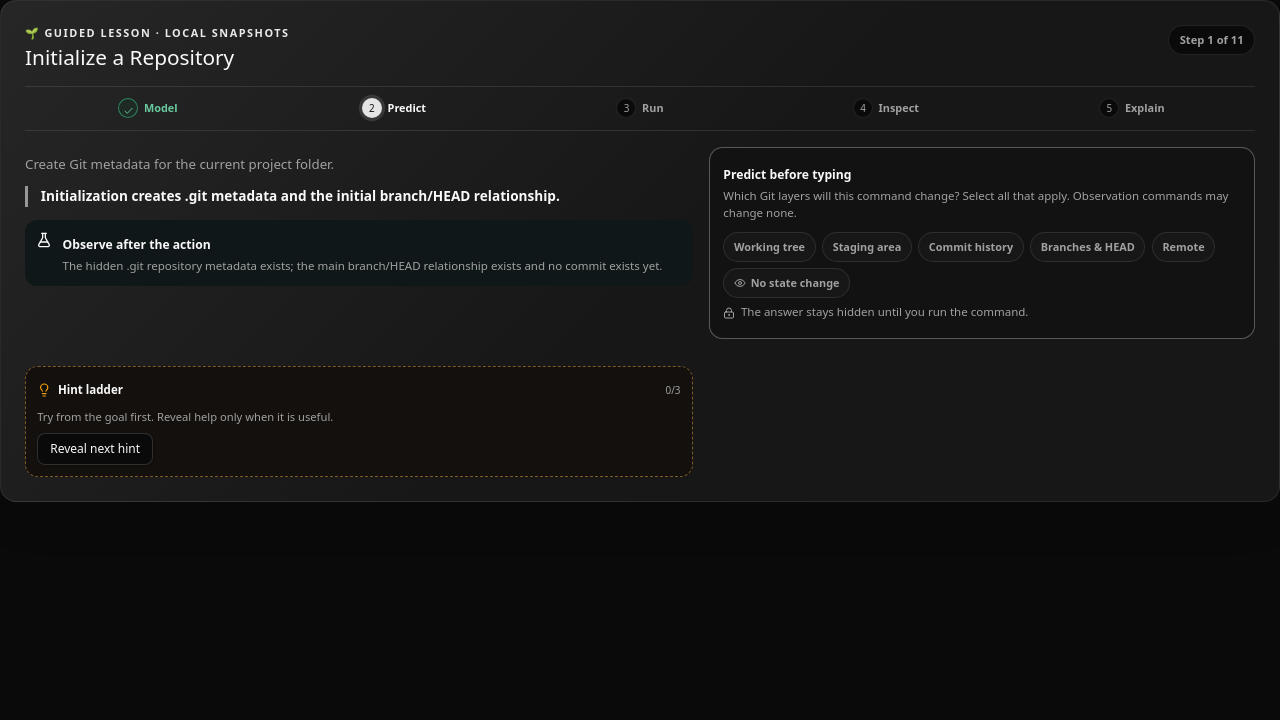
Test: Learning workspace › reveals hints progressively and records hint dependence as learning evidence
Expected: the text "Hint ladder" is shown, [58,381,123,399]
Expected: the text "0/3" is shown, [666,382,680,397]
Click the button "Reveal next hint" at (95, 448), box [37,432,153,464]
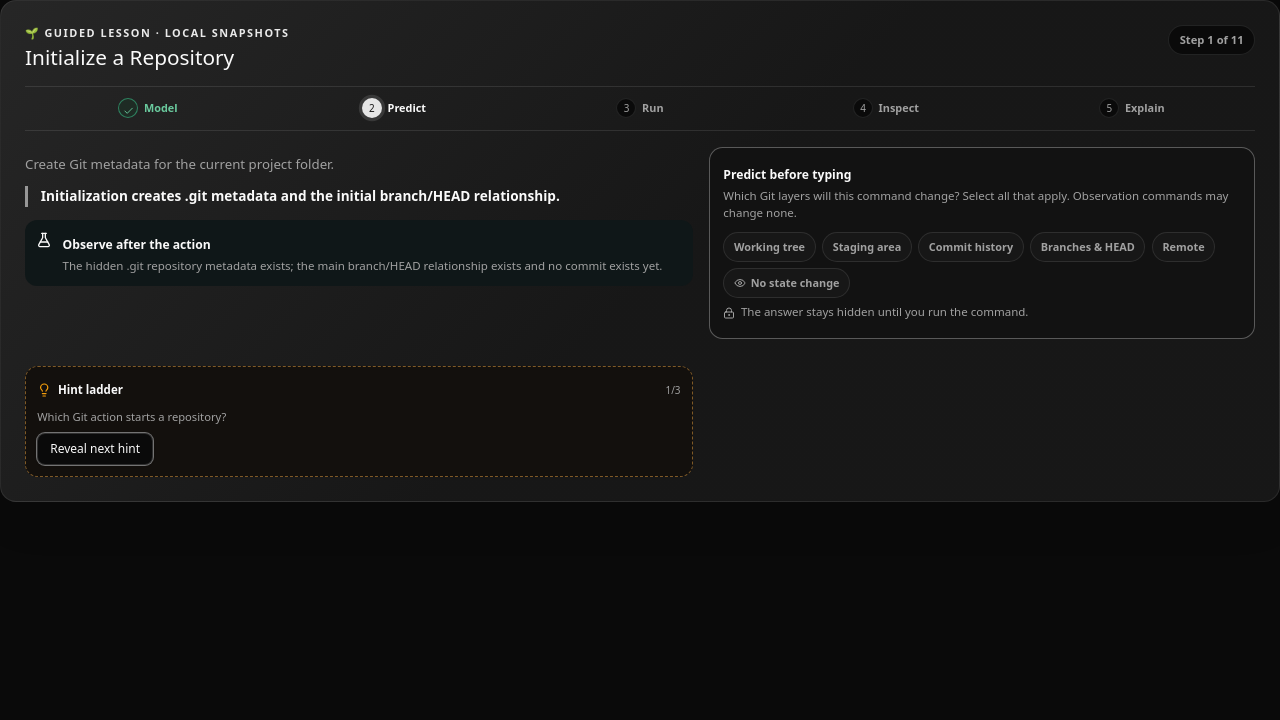
Expected: the text "1/3" is shown, [666,382,680,397]
